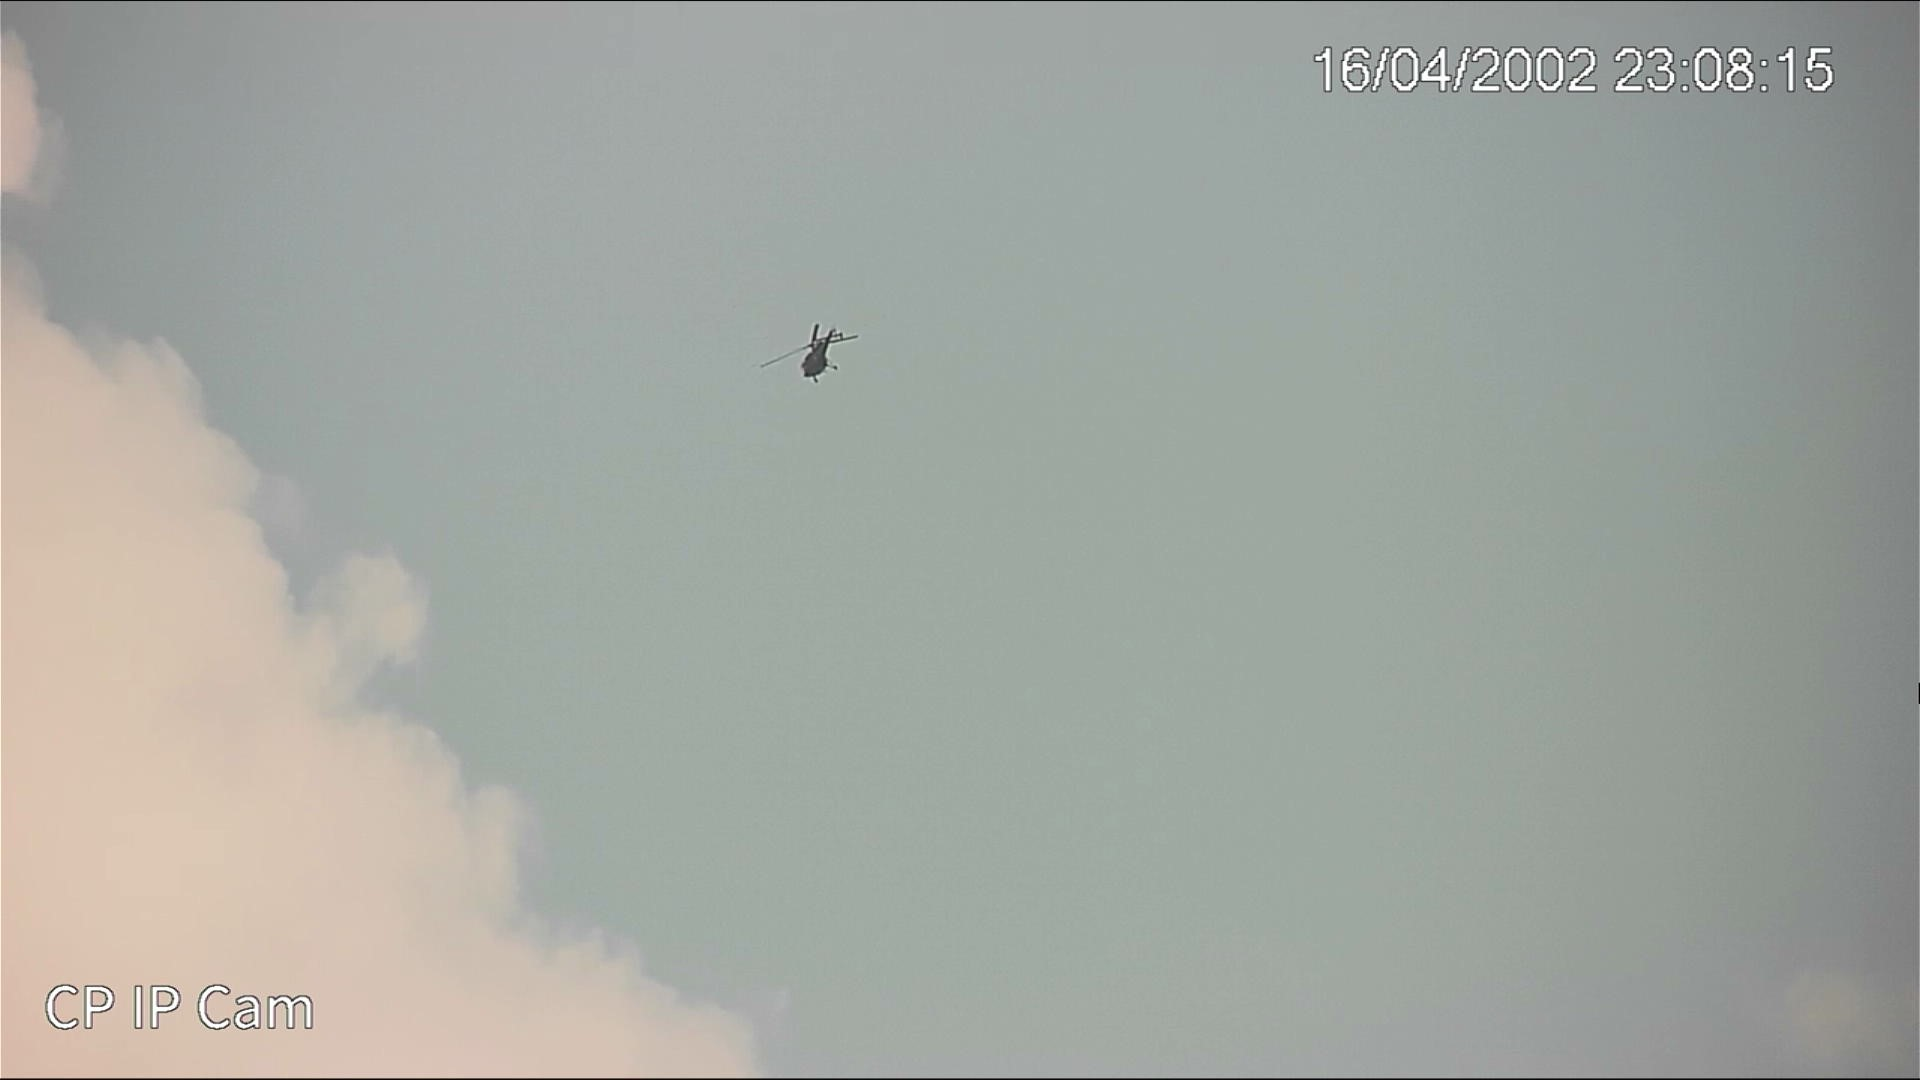SU_30: (761, 323, 862, 388)
